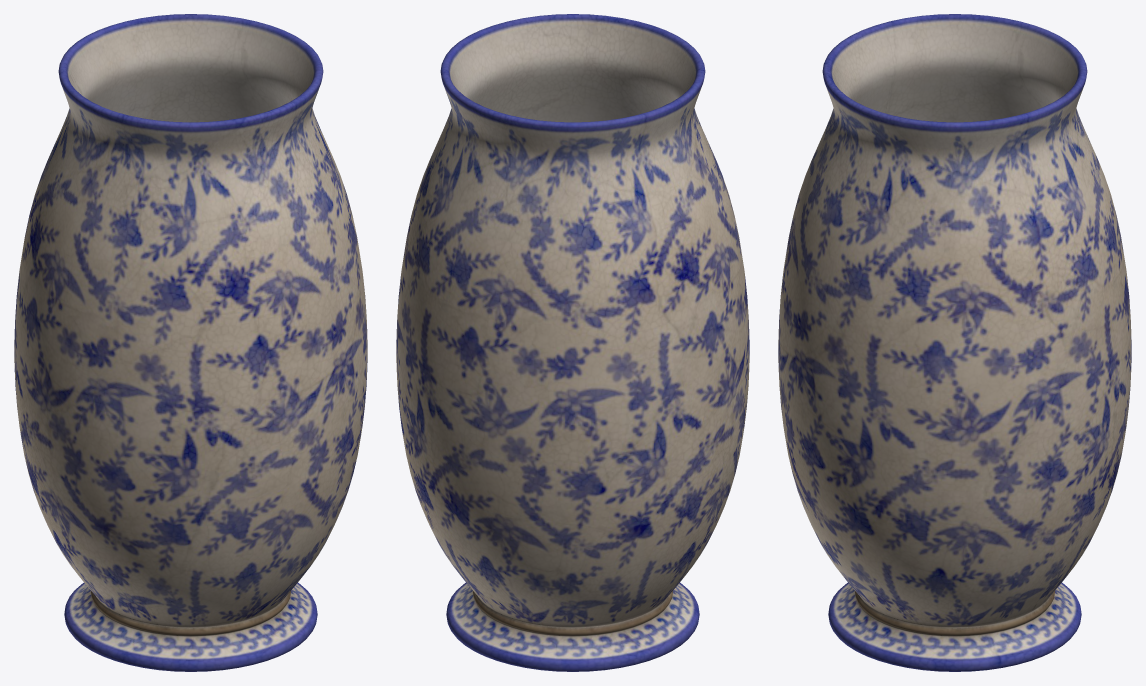
File: antique_ceramic_vase_01.obj
3 views of the same model, side by side, from view 1: azimuth 30°, elevation 25°; view 2: azimuth 150°, elevation 25°; view 3: azimuth 270°, elevation 25° (orthographic).
Visible parts, largest first — view 1: antique_ceramic_vase_01; view 2: antique_ceramic_vase_01; view 3: antique_ceramic_vase_01.
Boxes of the visible parts, box(x1,y1,x2,y2) form: antique_ceramic_vase_01: box(14, 14, 367, 671); antique_ceramic_vase_01: box(396, 14, 749, 671); antique_ceramic_vase_01: box(778, 14, 1131, 671).
Size of the model in its own units: 0.255 by 0.4396 by 0.255.
Materials: 1 (1 with a texture image).
